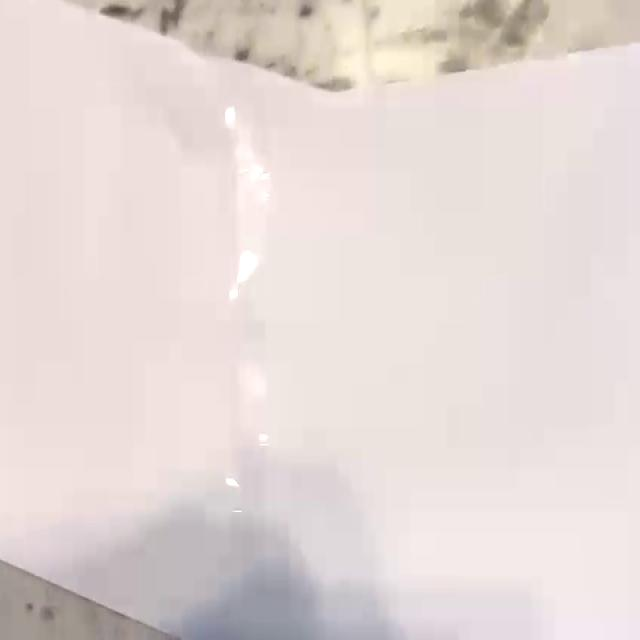road: (0, 2, 640, 639)
